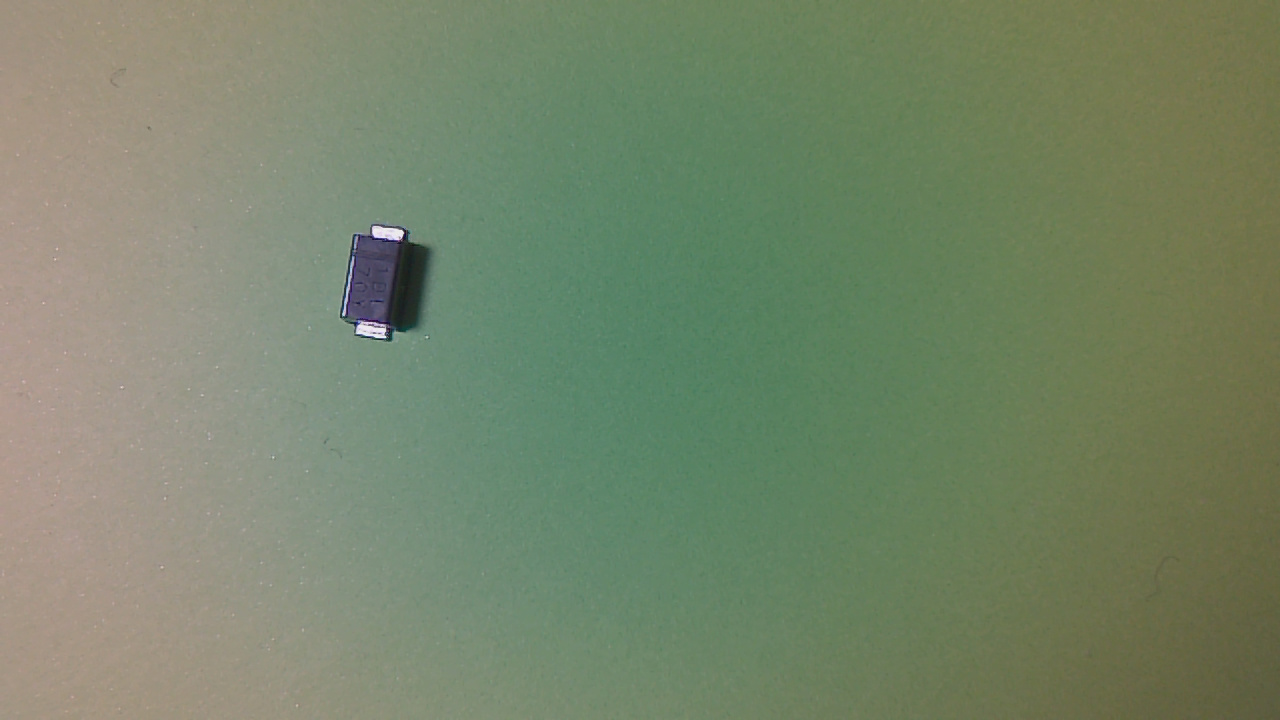Diode: (344, 227, 430, 350)
